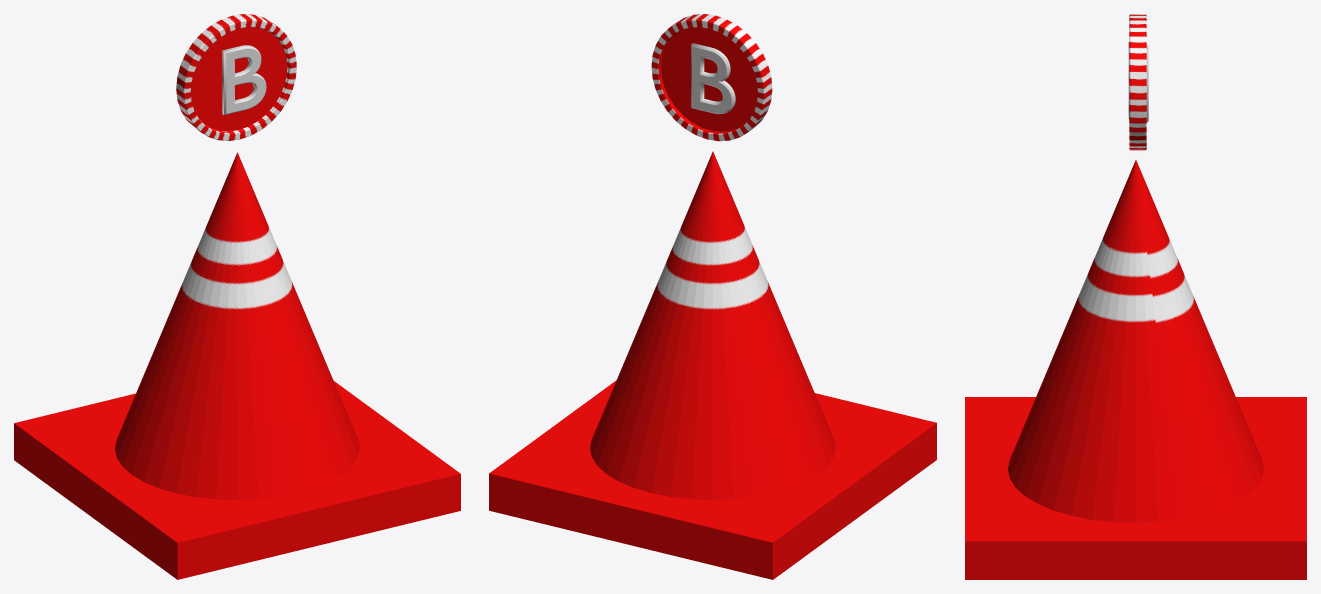
File: cone_with_coin_B.dae
3 renders of one model, left to right at view 1: azimuth 30°, elevation 25°; view 2: azimuth 150°, elevation 25°; view 3: azimuth 270°, elevation 25°, orthographic. The views are drawn at different scales.
Parts seen in each view (by area): view 1: Sankaku_Cone, Cylinder_001, Text_003; view 2: Sankaku_Cone, Cylinder_001, Text_000; view 3: Sankaku_Cone, Cylinder_001.
Boxes of the visible parts, left/top/right/bottom form: Sankaku_Cone: left=14, top=152, right=460, bottom=579; Cylinder_001: left=176, top=14, right=296, bottom=140; Text_003: left=222, top=45, right=266, bottom=114; Sankaku_Cone: left=489, top=151, right=936, bottom=579; Cylinder_001: left=651, top=14, right=772, bottom=141; Text_000: left=691, top=43, right=735, bottom=114; Sankaku_Cone: left=965, top=160, right=1306, bottom=579; Cylinder_001: left=1129, top=14, right=1146, bottom=150.
Bounding box in the file's own units: 0.4 × 0.4 × 0.6295.
2 materials, 2 textured.
